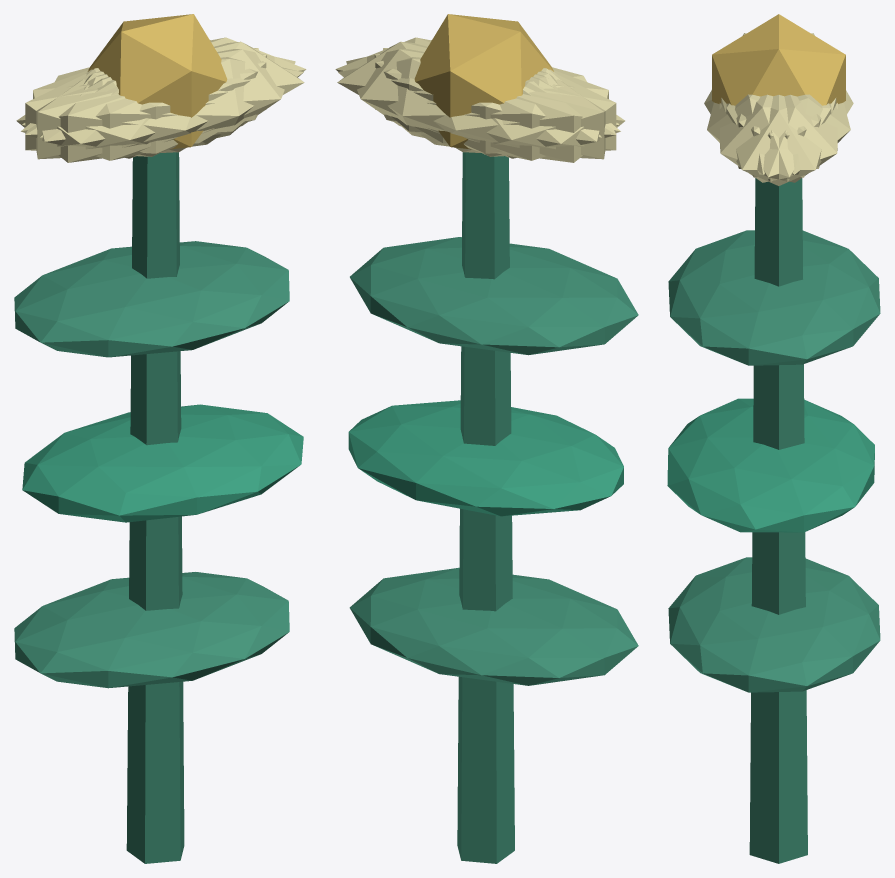
Rendered from cuphea-hyssopifolia.glb.
3 views of the same model, side by side, from view 1: azimuth 30°, elevation 25°; view 2: azimuth 150°, elevation 25°; view 3: azimuth 270°, elevation 25° (orthographic).
Visible parts, largest first — view 1: stem, leaf1, leaf2, leaf0, center, petal1, petal6, petal2, petal5, petal7, petal0, petal4 (+2 smaller); view 2: stem, leaf2, leaf0, leaf1, center, petal8, petal3, petal7, petal4, petal2, petal0, petal5 (+2 smaller); view 3: stem, leaf2, leaf1, leaf0, center, petal0, petal4, petal5, petal8, petal1.
Part boxes in pixels (x1,y1,x2,y2): stem: (126, 152, 184, 863); leaf1: (22, 404, 303, 522); leaf2: (14, 241, 289, 357); leaf0: (14, 572, 289, 688); center: (87, 14, 227, 149); petal1: (21, 57, 303, 160); petal6: (16, 69, 220, 162); petal2: (36, 48, 258, 159); petal5: (40, 49, 295, 153); petal7: (25, 54, 266, 156); petal0: (87, 41, 304, 143); petal4: (22, 37, 306, 135); stem: (457, 152, 514, 863); leaf2: (350, 237, 638, 355); leaf0: (349, 567, 638, 685); leaf1: (348, 400, 623, 516); center: (414, 14, 553, 149); petal8: (338, 57, 620, 160); petal3: (420, 69, 625, 162); petal7: (383, 48, 605, 159); petal4: (346, 49, 601, 153); petal2: (374, 54, 616, 156); petal0: (337, 41, 554, 143); petal5: (335, 37, 619, 135); stem: (749, 178, 807, 863); leaf2: (668, 230, 880, 365); leaf1: (667, 398, 874, 532); leaf0: (668, 557, 880, 692); center: (712, 14, 845, 105); petal0: (721, 95, 836, 185); petal4: (726, 94, 837, 182); petal5: (719, 94, 831, 182); petal8: (736, 94, 850, 174); petal1: (707, 94, 821, 174).
Size of the model in its own units: 0.1457 by 0.4132 by 0.0973.
